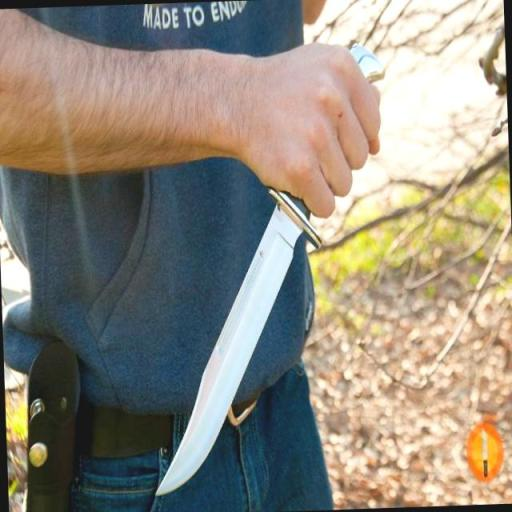knife: (134, 84, 400, 502)
